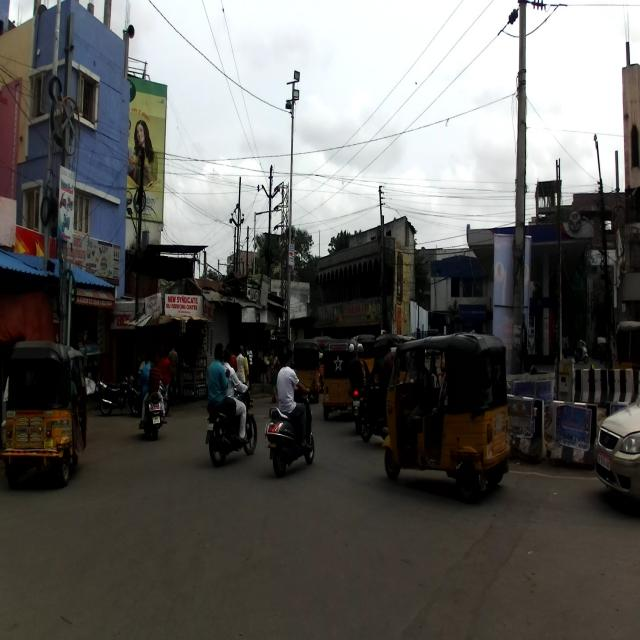autorickshaw: (381, 331, 513, 499), (2, 337, 90, 490)
motorcycle: (203, 372, 258, 464), (358, 372, 394, 446)
scooter: (264, 382, 314, 480), (136, 368, 164, 440)
